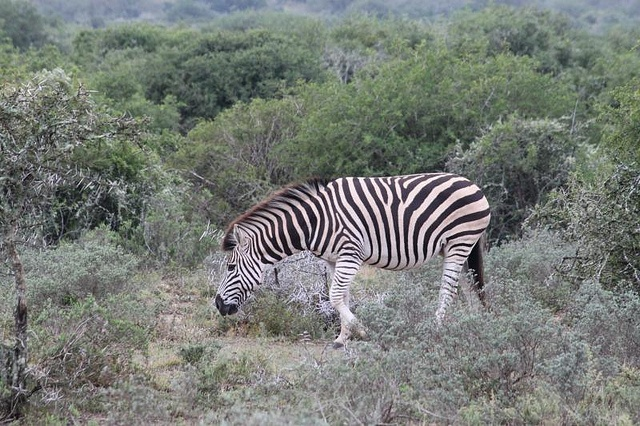zebra: (352, 260, 632, 426)
